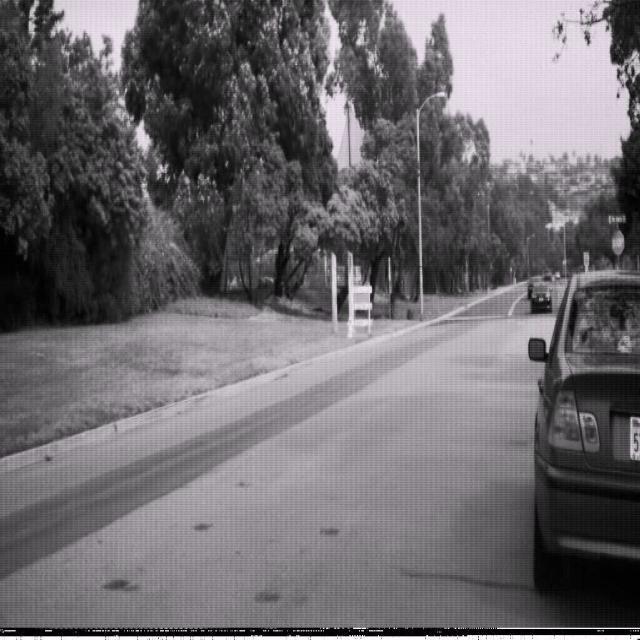stop: (610, 228, 624, 256)
